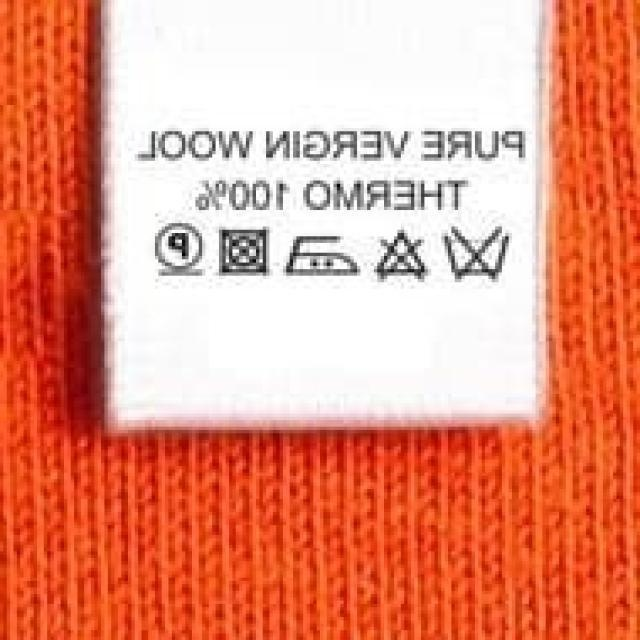DN_bleach: (372, 226, 427, 284)
DN_tumble_dry: (213, 223, 269, 280)
DN_wash: (439, 223, 515, 286)
dry_clean_any_solvent_except_trichloroethylene: (151, 217, 206, 279)
iron_medium: (284, 229, 361, 283)
